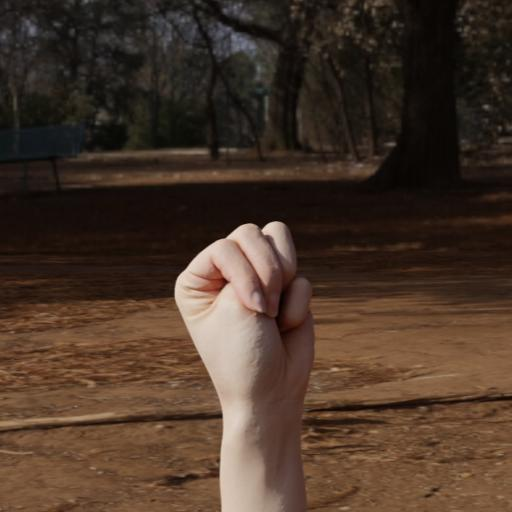M: (140, 167, 375, 512)
